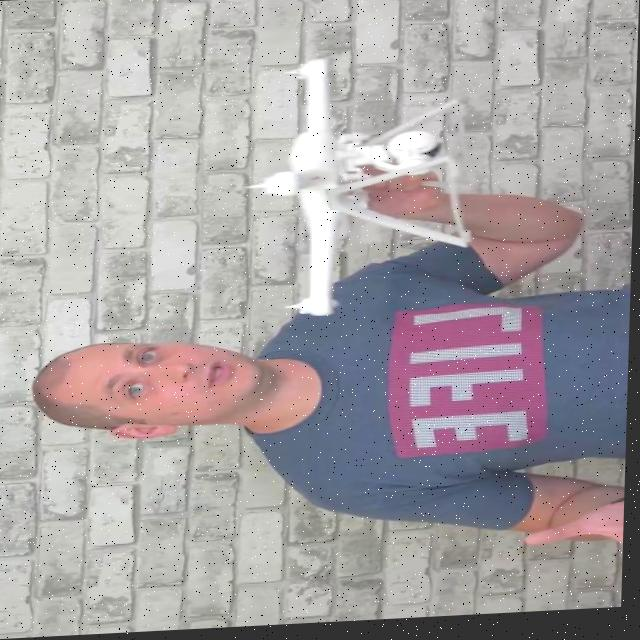drone: (253, 45, 418, 327)
